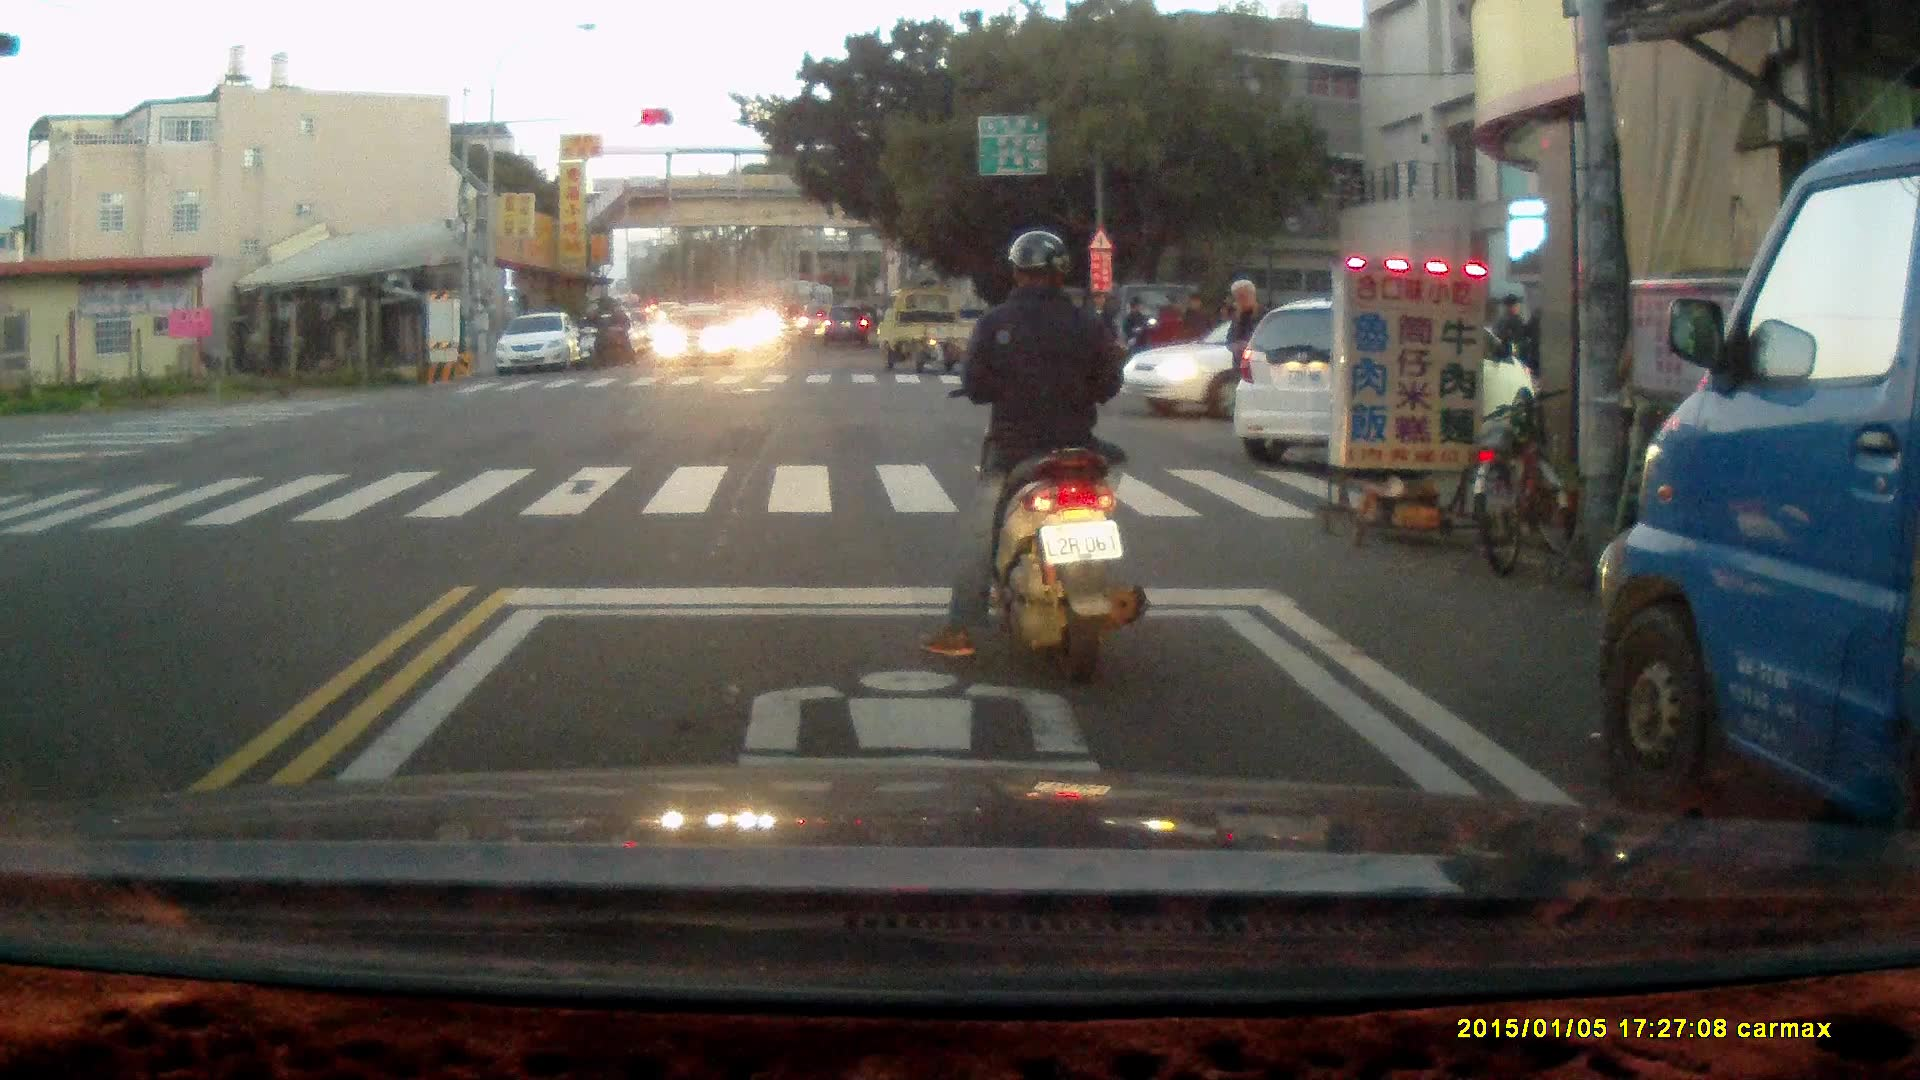pedestrian: (1221, 279, 1275, 441), (1490, 292, 1530, 391), (1115, 292, 1152, 391)
rider: (918, 233, 1149, 685), (1119, 297, 1199, 390), (577, 301, 612, 372), (599, 298, 634, 366)
vehicle: (1596, 120, 1920, 901), (1236, 303, 1533, 462), (1125, 306, 1464, 423), (875, 288, 993, 376), (656, 300, 743, 371), (493, 311, 581, 377), (822, 304, 878, 350)
